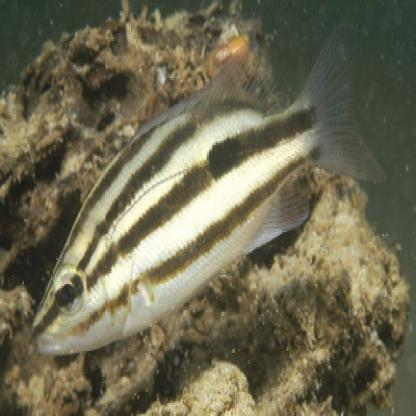snapper: (30, 18, 393, 369)
